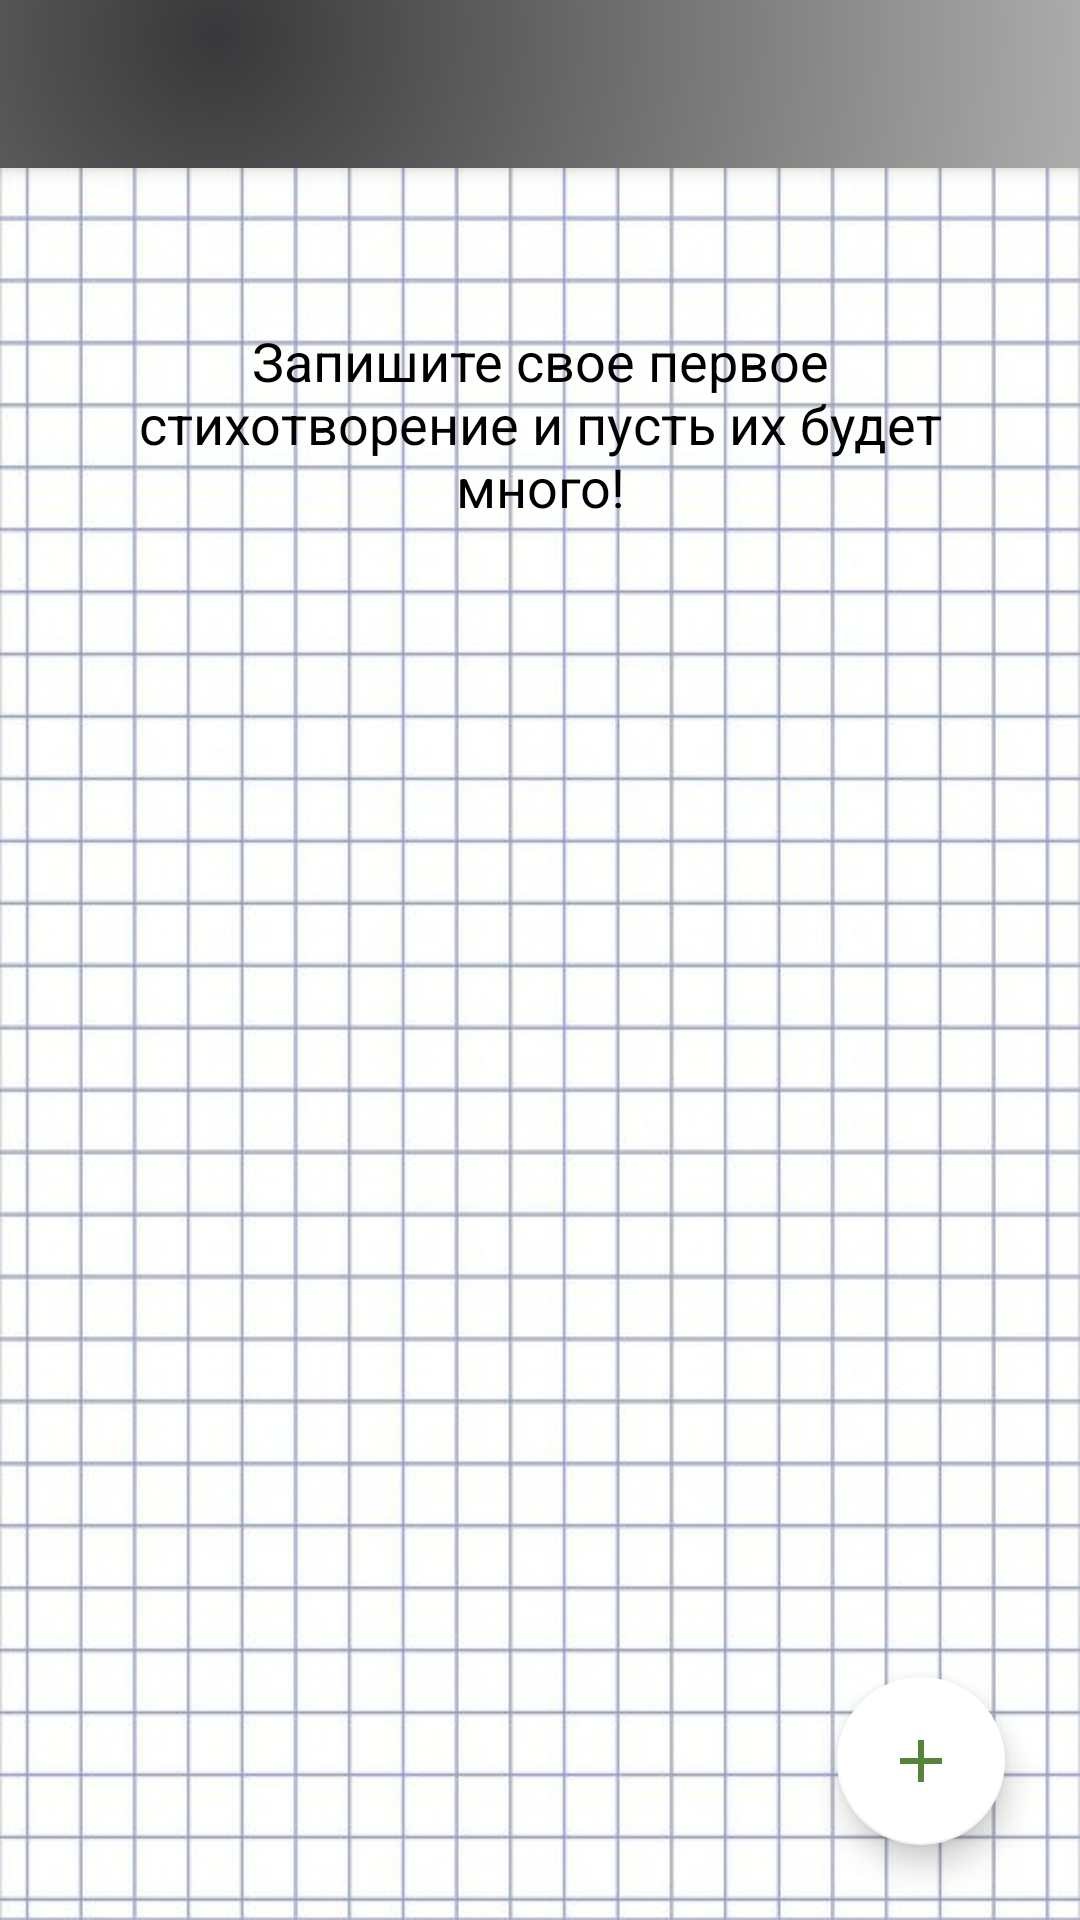

Screen size 1080px x 1920px. Icon name, then its center in pixels as point (x, y):
add: point (921, 1761)
